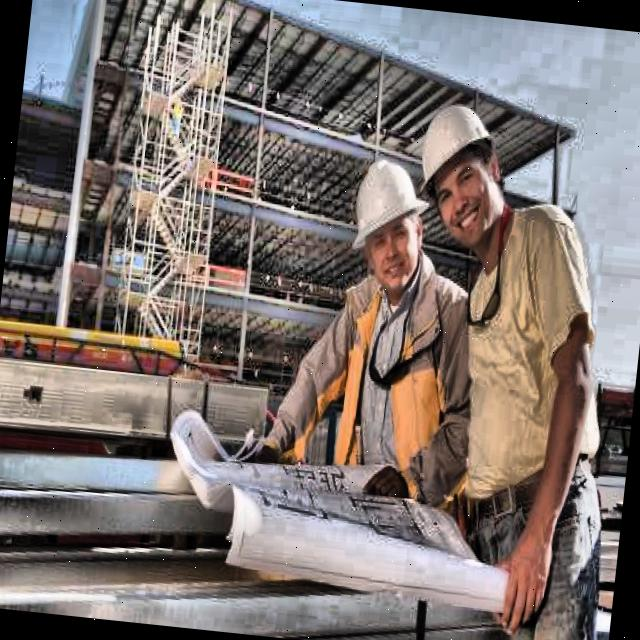helmet: (406, 92, 518, 257), (341, 153, 442, 303)
